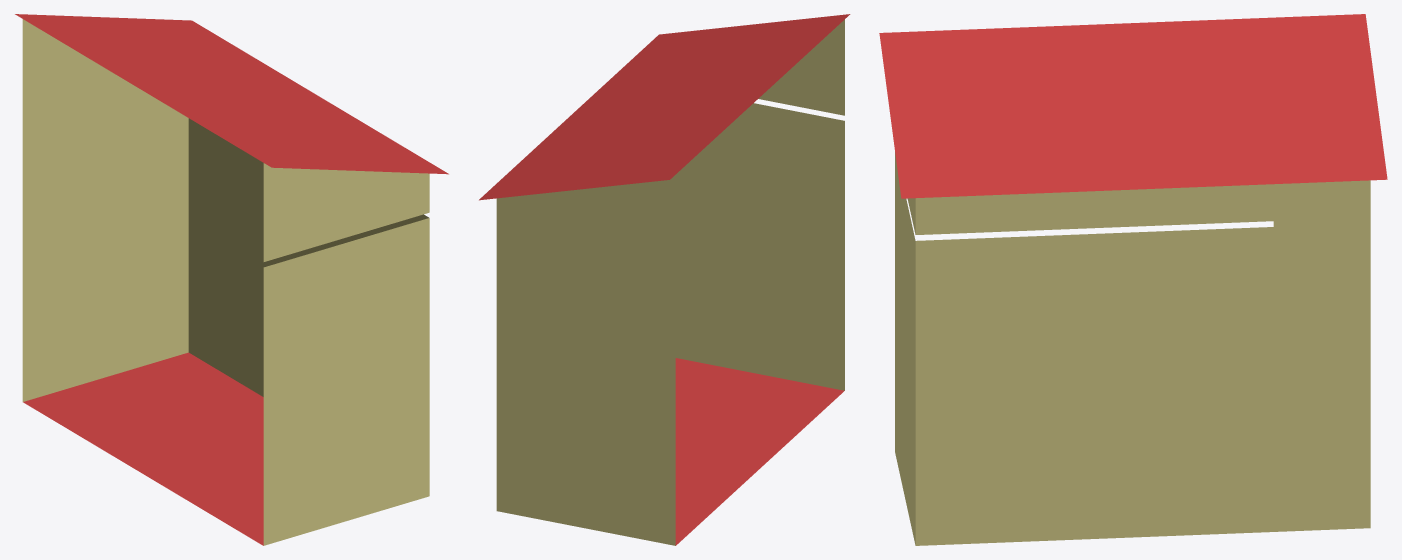
3 renders of one model, left to right at view 1: azimuth 30°, elevation 25°; view 2: azimuth 150°, elevation 25°; view 3: azimuth 270°, elevation 25°, orthographic. The views are drawn at different scales.
Bounding box in the file's own units: 4.48 × 8.06 × 7.35.
